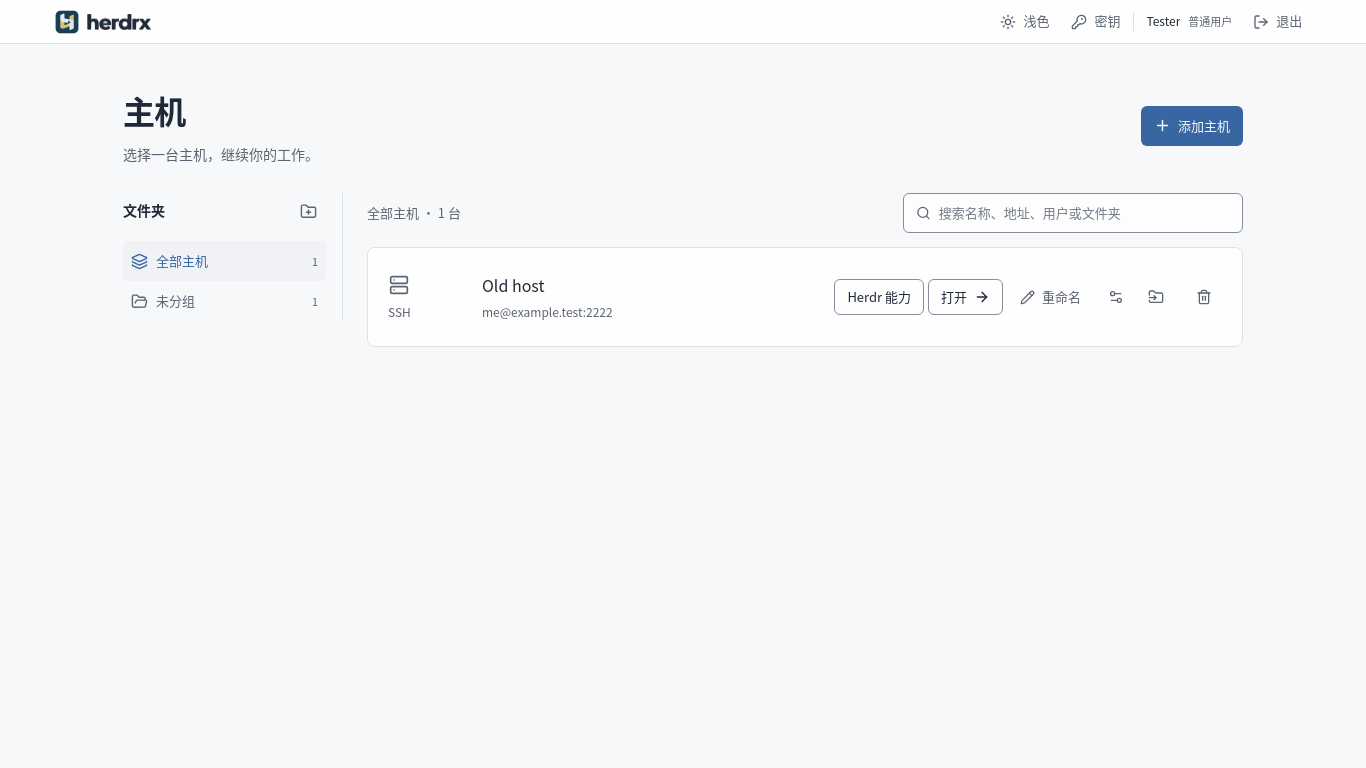
Test: host renaming › prefills the name, saves it, and updates the card without changing its address
Click the button with aria-label "重命名 Old host" at (1050,297), box [1007,279,1094,315]
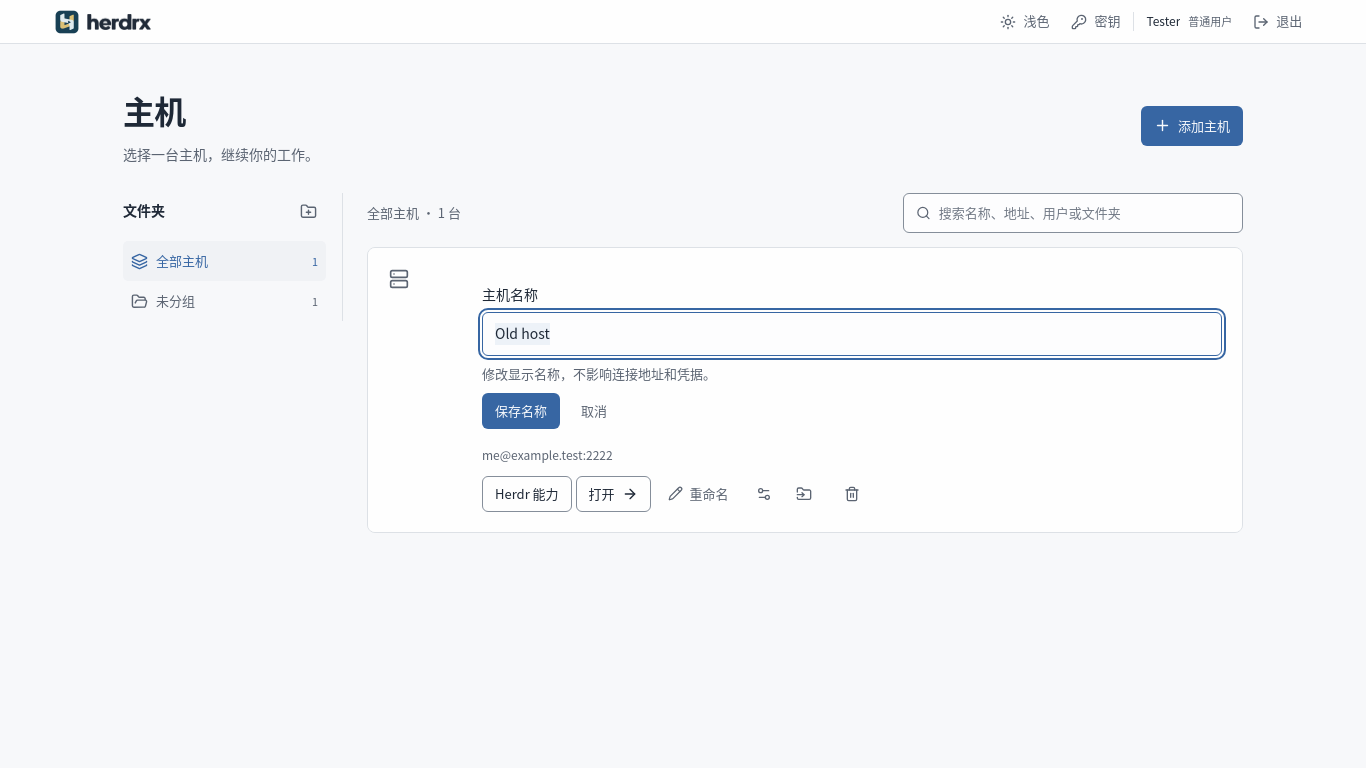
Expected: the field labelled "主机名称" holds "Old host"
Replace the text in the field labelled "主机名称" with "  工作站  " at (852,334), box [482,312,1222,356]
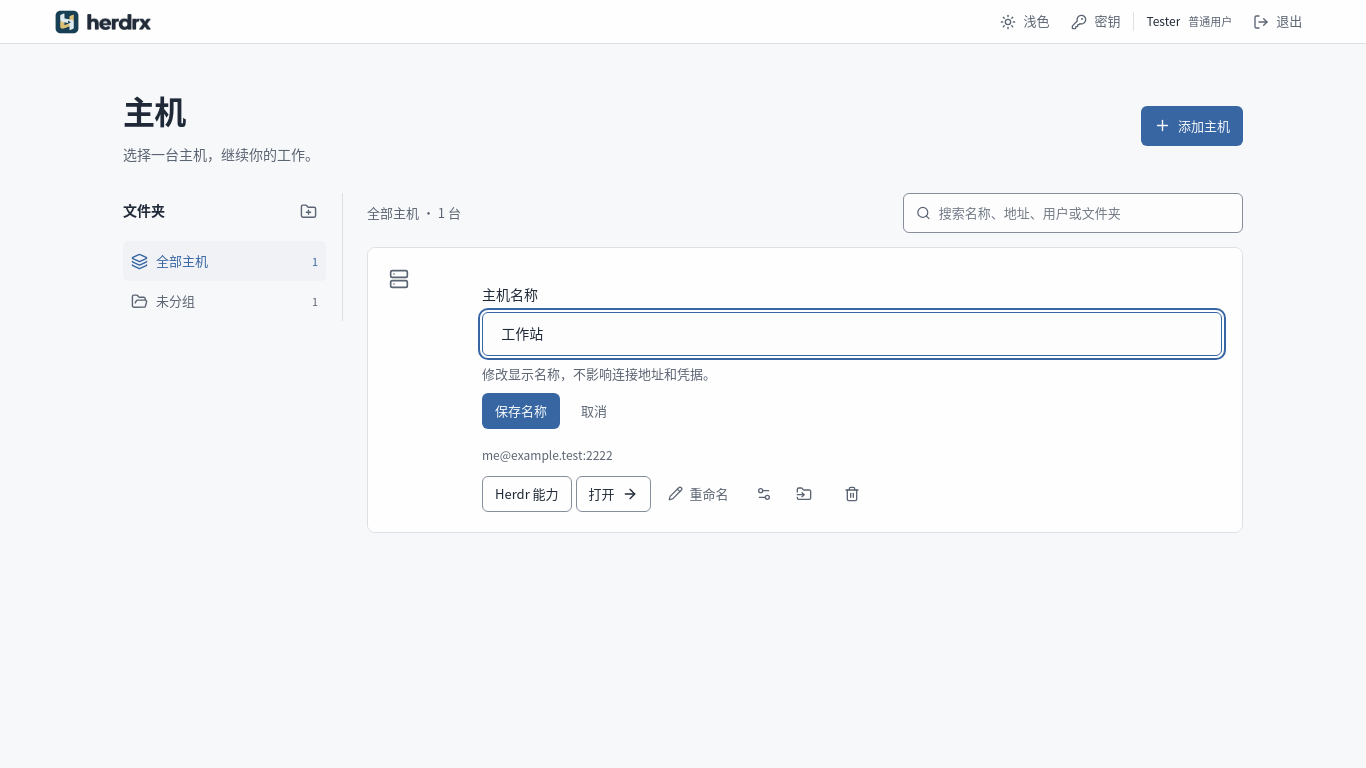
Click the button "保存名称" at (521,411), box [482,393,560,429]
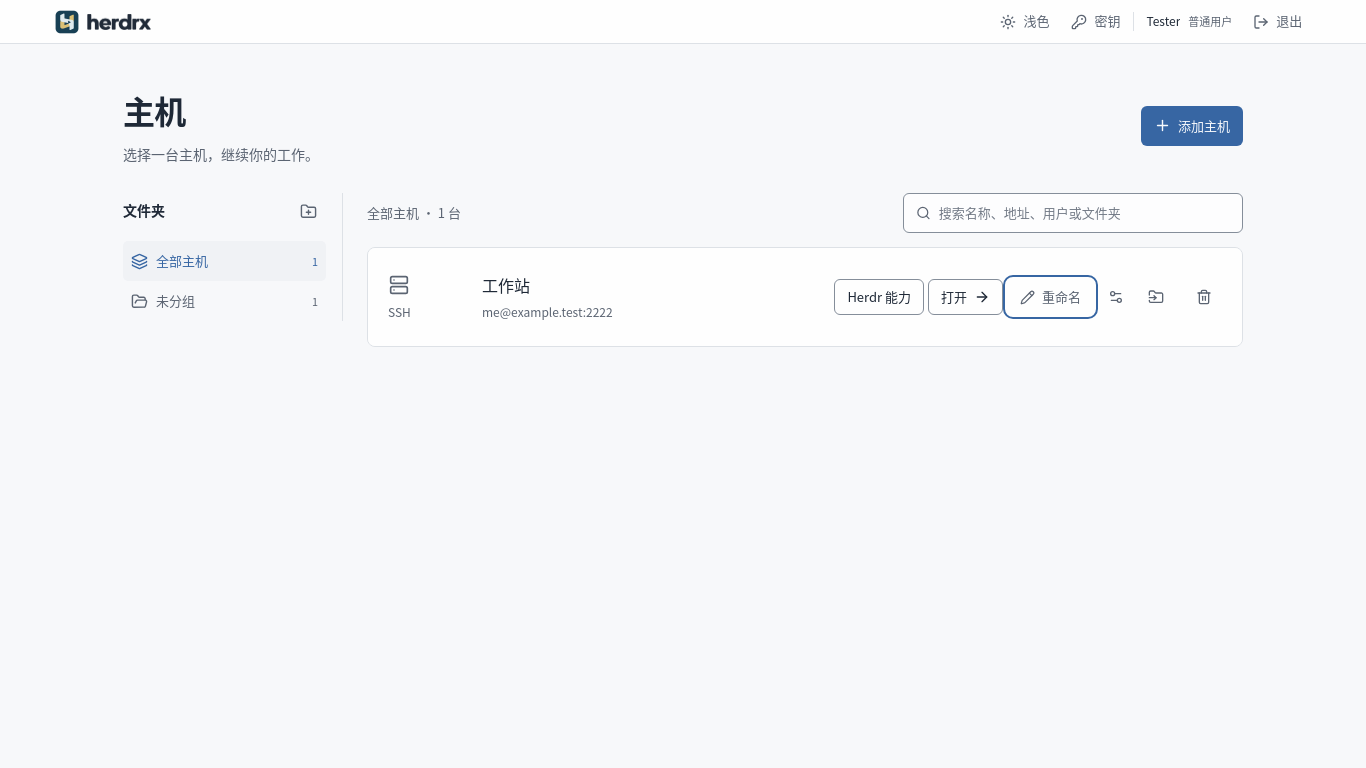
Expected: the text "me@example.test:2222" is shown, [482,303,613,320]
Expected: the heading "工作站" is shown, [482,274,530,298]
